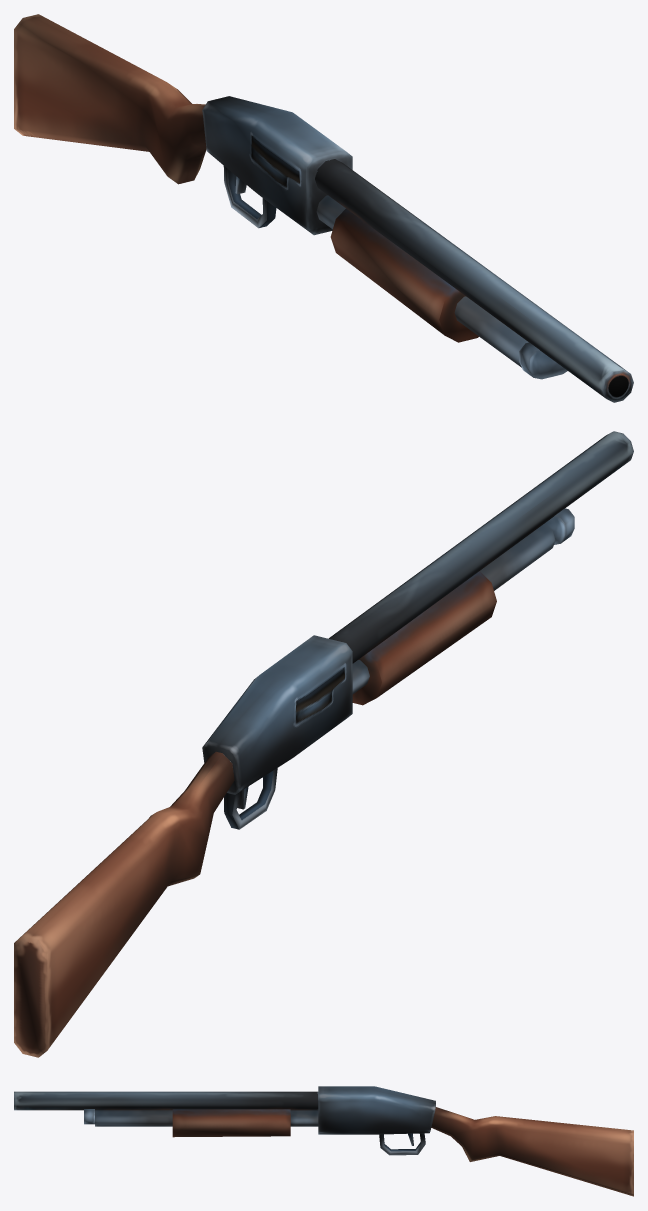
File: main_char_shotgun_1.fbx
The picture shows the model from 3 angles, top to bottom: view 1: azimuth 30°, elevation 25°; view 2: azimuth 150°, elevation 25°; view 3: azimuth 270°, elevation 25°; orthographic projection. The views are drawn at different scales.
Visible parts, largest first — view 1: riffle_01; view 2: riffle_01; view 3: riffle_01.
Part boxes in pixels (left/top/right/bottom): riffle_01: left=14, top=14, right=633, bottom=402; riffle_01: left=14, top=431, right=633, bottom=1057; riffle_01: left=14, top=1086, right=633, bottom=1196.
Size of the model in its own units: 8.04 by 26.25 by 142.
1 material, 1 textured.
